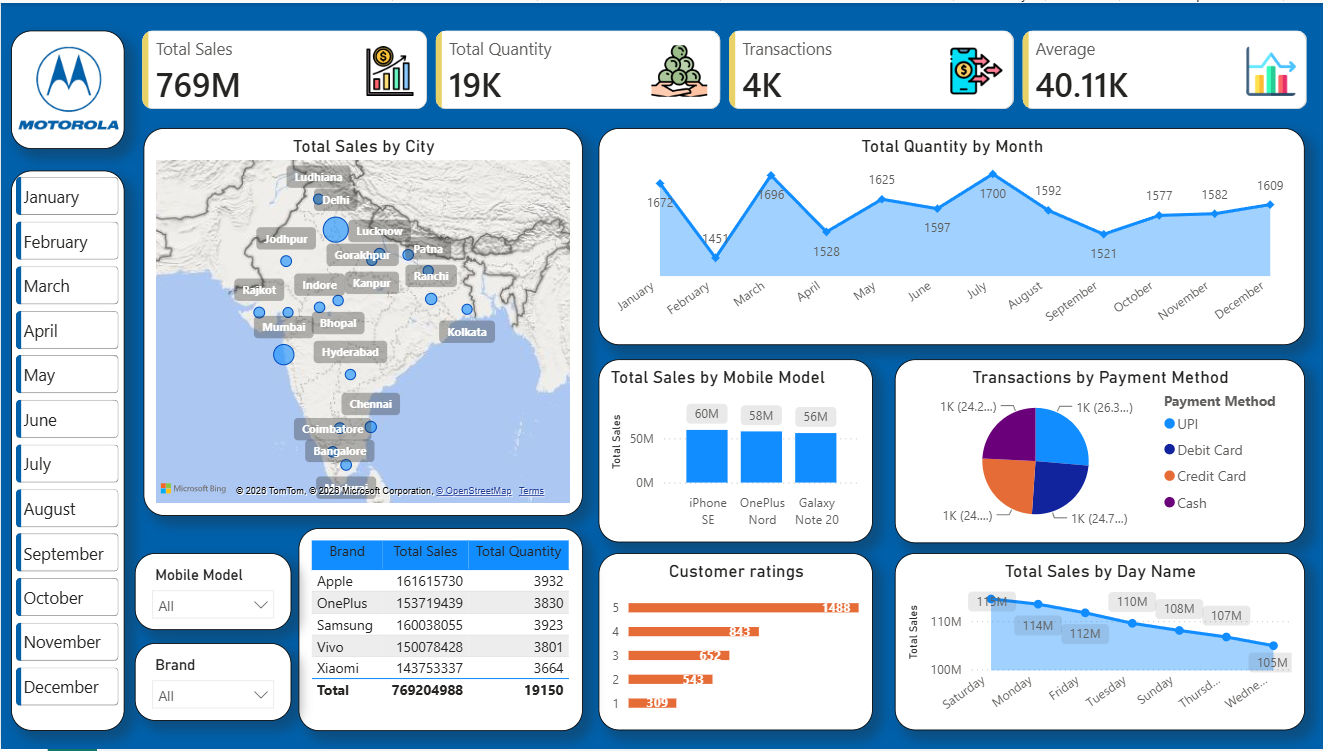

This screenshot's page, from the dashboard's own definition file:
{"tool":"powerbi","page":{"name":"Page 1","canvas":[1280,720],"ordinal":0},"visuals":[{"type":"shape","box":[9.7,26.5,109.8,114.6],"z":0},{"type":"image","box":[16.9,26.5,96.5,111],"z":1000},{"type":"shape","box":[9.6,161.9,109.8,540.7],"z":2000},{"type":"advancedSlicerVisual","fields":{"Values":["Sales_Data.Date.Variation.Date Hierarchy.Month"]},"box":[9.7,162.9,109.8,530.8],"z":3000},{"type":"cardVisual","fields":{"Data":["Sales_Data.Total Sales","Sales_Data.Total Quantity","Sales_Data.Transactions","Sales_Data.Average"]},"box":[119.4,9.7,1160.6,111],"z":4000},{"type":"map","fields":{"Category":["Sales_Data.City"],"Size":["Sales_Data.Total Sales"]},"box":[137.2,120.8,424,374.6],"z":5000},{"type":"lineChart","fields":{"Y":["Sum(Sales_Data.Units Sold)"],"Category":["Sales_Data.Date.Variation.Date Hierarchy.Month"]},"box":[576.7,120.6,681.6,209.9],"z":6000},{"type":"clusteredColumnChart","fields":{"Y":["Sales_Data.Total Sales"],"Category":["Sales_Data.Mobile Model"]},"box":[576.3,344.4,264.8,177],"z":7000},{"type":"pieChart","fields":{"Y":["Sales_Data.Transactions"],"Category":["Sales_Data.Payment Method"]},"box":[862.6,343.8,395.7,177.3],"z":8000},{"type":"clusteredBarChart","title":"Customer ratings","fields":{"Category":["Sales_Data.Customer Ratings"],"Y":["CountNonNull(Sales_Data.Customer Ratings)"]},"box":[576.3,531,264.8,171.5],"z":9000},{"type":"areaChart","fields":{"Y":["Sales_Data.Total Sales"],"Category":["Sales_Data.Day Name"]},"box":[862.6,530.8,395.7,171.3],"z":10000},{"type":"tableEx","fields":{"Values":["Sales_Data.Brand","Sales_Data.Total Sales","Sales_Data.Total Quantity"]},"box":[286.8,506.3,274.4,196.2],"z":11000},{"type":"slicer","fields":{"Values":["Sales_Data.Mobile Model"]},"box":[129,531,150.9,74.1],"z":12000},{"type":"slicer","fields":{"Values":["Sales_Data.Brand"]},"box":[129,617.5,150.9,75.5],"z":13000}]}

Visuals, with their boxes in screenshot pixels (x1, y1, x2, y2), scaled from the page's 1280x720 canvas onto the 1323x751 screenshot:
shape: Rect(10, 28, 124, 147)
image: Rect(17, 28, 117, 143)
shape: Rect(10, 169, 123, 733)
advancedSlicerVisual - Sales_Data.Date.Variation.Date Hierarchy.Month: Rect(10, 170, 124, 724)
cardVisual - Sales_Data.Total Sales x Sales_Data.Total Quantity: Rect(123, 10, 1322, 126)
map - Sales_Data.City x Sales_Data.Total Sales: Rect(142, 126, 580, 517)
lineChart - Sum(Sales_Data.Units Sold) x Sales_Data.Date.Variation.Date Hierarchy.Month: Rect(596, 126, 1301, 345)
clusteredColumnChart - Sales_Data.Total Sales x Sales_Data.Mobile Model: Rect(596, 359, 869, 544)
pieChart - Sales_Data.Transactions x Sales_Data.Payment Method: Rect(892, 359, 1301, 544)
"Customer ratings" clusteredBarChart: Rect(596, 554, 869, 733)
areaChart - Sales_Data.Total Sales x Sales_Data.Day Name: Rect(892, 554, 1301, 732)
tableEx - Sales_Data.Brand x Sales_Data.Total Sales: Rect(296, 528, 580, 733)
slicer - Sales_Data.Mobile Model: Rect(133, 554, 289, 631)
slicer - Sales_Data.Brand: Rect(133, 644, 289, 723)
